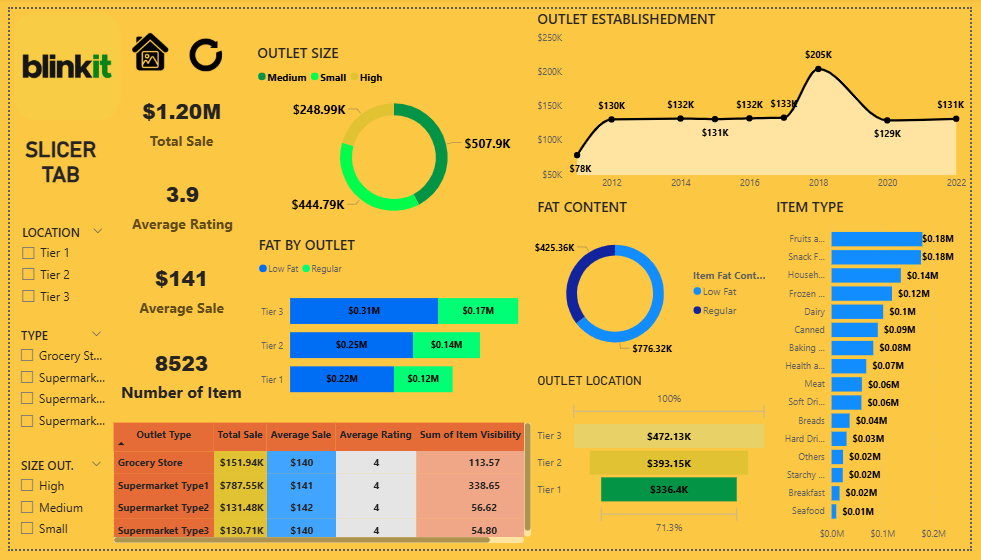

The page's visual inventory and layout, read from the dashboard file:
{"tool":"powerbi","page":{"name":"Page 1","canvas":[1280,720],"ordinal":0},"visuals":[{"type":"cardVisual","fields":{"Data":["BlinkIT Grocery Data.Total Sale"]},"box":[132.6,97.7,191.9,109.9],"z":0,"group":"g2"},{"type":"barChart","title":"ITEM TYPE","fields":{"Category":["BlinkIT Grocery Data.Item Type"],"Y":["Sum(BlinkIT Grocery Data.Sales)"]},"box":[1016.3,250,264,468.6],"z":0},{"type":"group","id":"g1","title":"Group 2","box":[1.2,281.3,133.3,431.7],"z":0,"group":"g4"},{"type":"slicer","fields":{"Values":["BlinkIT Grocery Data.Outlet Location Type"]},"box":[2.4,281.3,132.6,120.9],"z":0,"group":"g1"},{"type":"textbox","box":[1.2,148,132.1,121.1],"z":1000,"group":"g4"},{"type":"barChart","title":"FAT BY OUTLET","fields":{"Category":["BlinkIT Grocery Data.Outlet Location Type"],"Series":["BlinkIT Grocery Data.Item Fat Content"],"Y":["Sum(BlinkIT Grocery Data.Sales)"]},"box":[325.9,302.5,374.1,234.6],"z":1000},{"type":"cardVisual","fields":{"Data":["BlinkIT Grocery Data.Average Sale"]},"box":[132.6,319.9,191.9,109.9],"z":1000,"group":"g2"},{"type":"slicer","fields":{"Values":["BlinkIT Grocery Data.Outlet Type"]},"box":[1.2,417.9,132.6,158.1],"z":1000,"group":"g1"},{"type":"cardVisual","fields":{"Data":["BlinkIT Grocery Data.Average Rating"]},"box":[133.8,207.6,190.7,109.9],"z":2000,"group":"g2"},{"type":"donutChart","title":"FAT CONTENT","fields":{"Y":["Sum(BlinkIT Grocery Data.Sales)"],"Category":["BlinkIT Grocery Data.Item Fat Content"]},"box":[698.8,250.6,317.3,234.6],"z":2000},{"type":"slicer","fields":{"Values":["BlinkIT Grocery Data.Outlet Size"]},"box":[1.2,591.8,132.6,120.9],"z":2000,"group":"g1"},{"type":"lineChart","title":"OUTLET ESTABLISHEDMENT","fields":{"Category":["BlinkIT Grocery Data.Outlet Establishment Year"],"Y":["Sum(BlinkIT Grocery Data.Sales)"]},"box":[698.8,0,581.5,250.6],"z":3000},{"type":"donutChart","title":"OUTLET SIZE","fields":{"Category":["BlinkIT Grocery Data.Outlet Size"],"Y":["Sum(BlinkIT Grocery Data.Sales)"]},"box":[324.7,45.7,374.1,250.6],"z":4000},{"type":"funnel","title":"OUTLET LOCATION","fields":{"Category":["BlinkIT Grocery Data.Outlet Location Type"],"Y":["Sum(BlinkIT Grocery Data.Sales)"]},"box":[698.8,485.2,317.3,221],"z":5000},{"type":"pivotTable","fields":{"Rows":["BlinkIT Grocery Data.Outlet Type"],"Values":["BlinkIT Grocery Data.Total Sale","BlinkIT Grocery Data.Average Sale","BlinkIT Grocery Data.Average Rating","Sum(BlinkIT Grocery Data.Item Visibility)"]},"box":[132.6,546.5,566.3,170.9],"z":6000},{"type":"group","id":"g2","title":"Group 3","box":[132.6,97.7,191.9,332.1],"z":9001,"group":"g3"},{"type":"image","box":[153.5,23.3,67.4,67.4],"z":10000},{"type":"image","box":[227.9,31.4,65.1,59.3],"z":12000},{"type":"image","box":[0,0,153.1,153.1],"z":13000},{"type":"card","fields":{"Values":["BlinkIT Grocery Data.Number of Item"]},"box":[132.6,427.9,190.7,118.6],"z":14001,"group":"g3"},{"type":"group","id":"g3","title":"Group 1","box":[132.6,97.7,191.9,448.8],"z":14002},{"type":"group","id":"g4","title":"Group 4","box":[1.2,148,133.3,564.9],"z":14008}]}

Visuals, with their boxes in screenshot pixels (x1, y1, x2, y2), scaled from the page's 1280x720 canvas onto the 981x560 screenshot:
cardVisual - BlinkIT Grocery Data.Total Sale: (102,76,249,161)
"ITEM TYPE" barChart: (779,194,980,559)
"Group 2" group: (1,219,103,555)
slicer - BlinkIT Grocery Data.Outlet Location Type: (2,219,103,313)
textbox: (1,115,102,209)
"FAT BY OUTLET" barChart: (250,235,536,418)
cardVisual - BlinkIT Grocery Data.Average Sale: (102,249,249,334)
slicer - BlinkIT Grocery Data.Outlet Type: (1,325,103,448)
cardVisual - BlinkIT Grocery Data.Average Rating: (103,161,249,247)
"FAT CONTENT" donutChart: (536,195,779,377)
slicer - BlinkIT Grocery Data.Outlet Size: (1,460,103,554)
"OUTLET ESTABLISHEDMENT" lineChart: (536,0,980,195)
"OUTLET SIZE" donutChart: (249,36,536,230)
"OUTLET LOCATION" funnel: (536,377,779,549)
pivotTable - BlinkIT Grocery Data.Outlet Type x BlinkIT Grocery Data.Total Sale: (102,425,536,558)
"Group 3" group: (102,76,249,334)
image: (118,18,169,71)
image: (175,24,225,71)
image: (0,0,117,119)
card - BlinkIT Grocery Data.Number of Item: (102,333,248,425)
"Group 1" group: (102,76,249,425)
"Group 4" group: (1,115,103,554)
